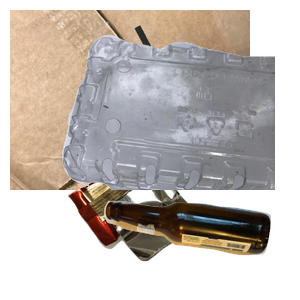cardboard: (10, 10, 250, 190)
glass: (101, 198, 300, 300)
plastic: (60, 32, 300, 212)
trash: (65, 148, 258, 300)
